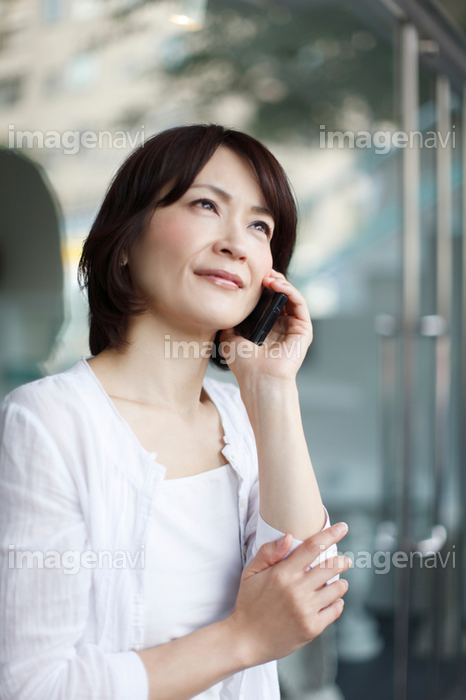phone: (228, 258, 316, 351)
talk: (148, 181, 320, 384)
